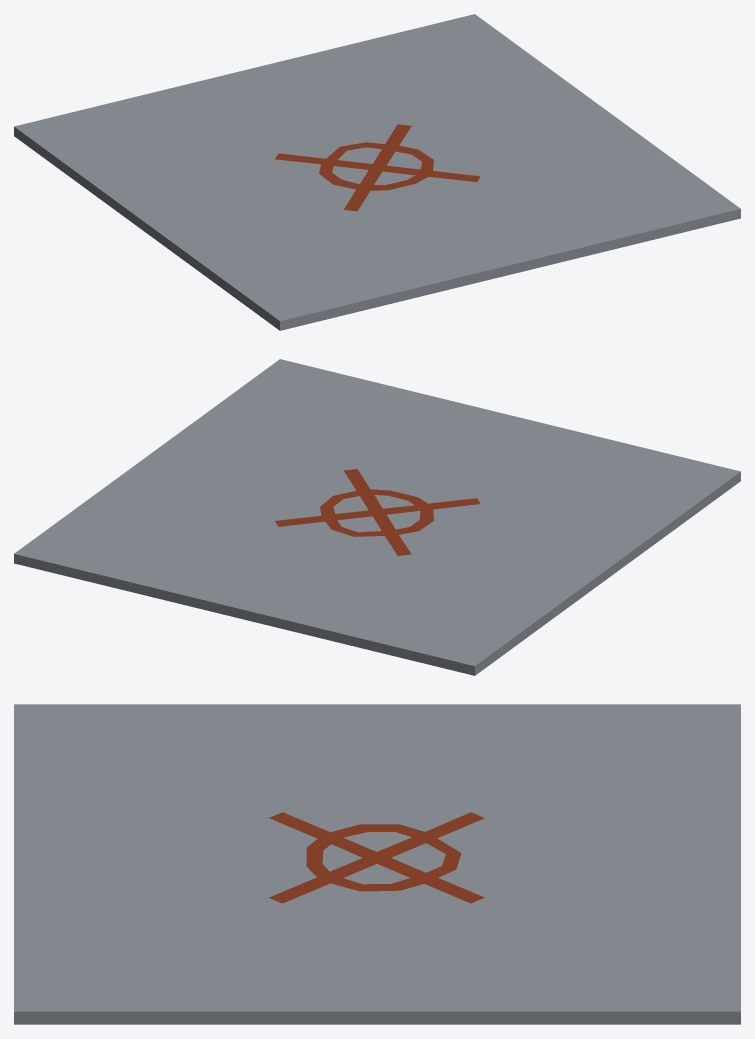
File: Floor_05.fbx
3 views of the same model, one above another, from view 1: azimuth 30°, elevation 25°; view 2: azimuth 150°, elevation 25°; view 3: azimuth 270°, elevation 25° (orthographic). The views are drawn at different scales.
Visible parts, largest first — view 1: Floor_05_LOD0; view 2: Floor_05_LOD0; view 3: Floor_05_LOD0.
Part boxes in pixels (x1,y1,x2,y2): Floor_05_LOD0: (14,14,740,330); Floor_05_LOD0: (14,359,740,675); Floor_05_LOD0: (14,704,740,1024).
Size of what is drawn, in the model's own units: 500 by 10 by 500.
